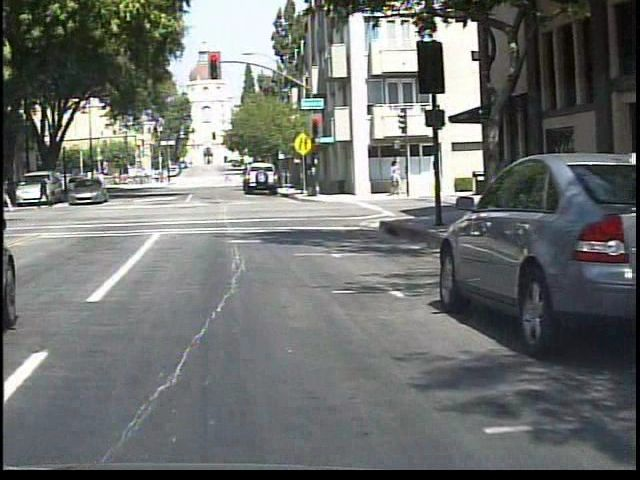person: (35, 172, 51, 212), (219, 171, 233, 188), (5, 175, 6, 214)
